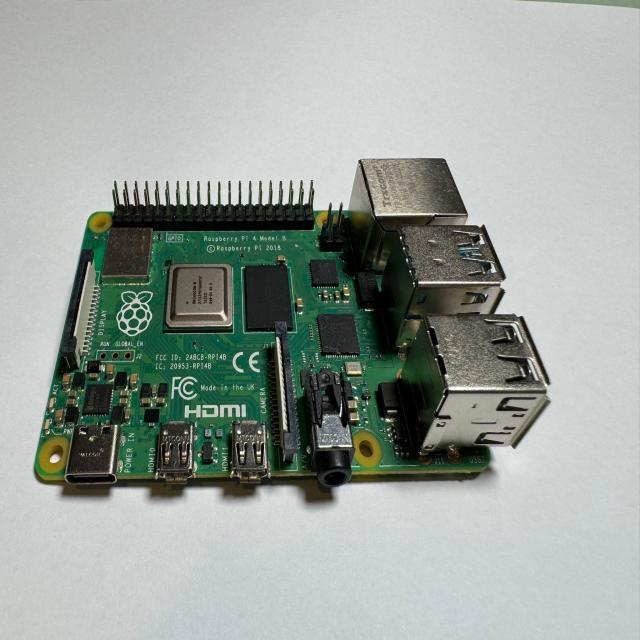CPU: (163, 262, 235, 335)
Ethernet: (352, 157, 468, 232)
GPIO: (109, 176, 319, 232)
RAM: (243, 258, 295, 339)
Raspberry: (35, 149, 552, 480)
micro-hdmi: (153, 418, 198, 484), (228, 420, 269, 485)
